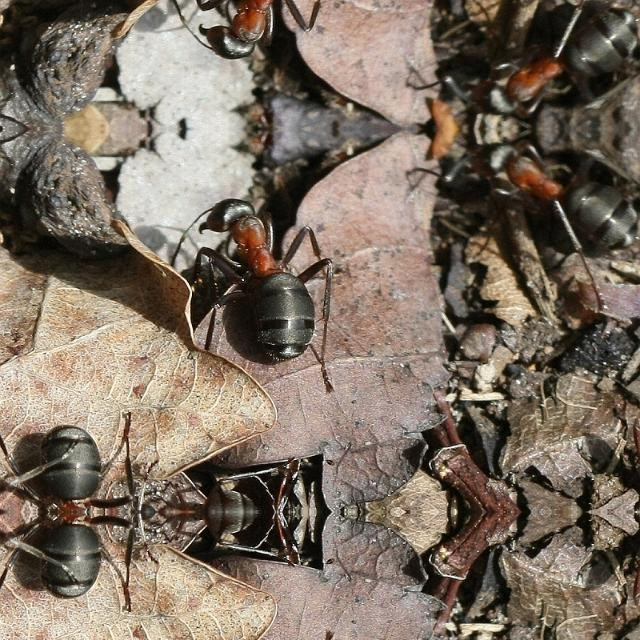Formica: (184, 178, 360, 388), (0, 392, 156, 511), (0, 512, 156, 630), (440, 143, 640, 231), (440, 25, 640, 113), (184, 0, 360, 78)
